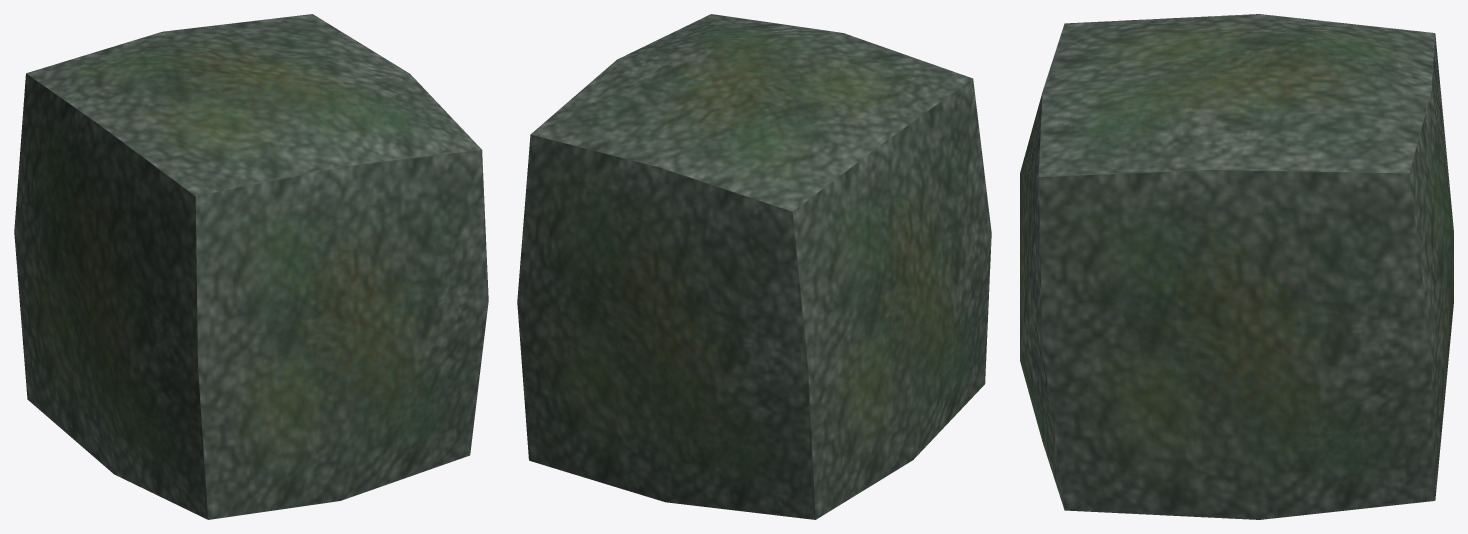
The model's file is ruins07.obj.
3 renders of one model, left to right at view 1: azimuth 30°, elevation 25°; view 2: azimuth 150°, elevation 25°; view 3: azimuth 270°, elevation 25°, orthographic. The views are drawn at different scales.
Parts seen in each view (by area): view 1: Duplicate18; view 2: Duplicate18; view 3: Duplicate18.
Boxes of the visible parts, x1,y1,x2,y2 form: Duplicate18: (14, 14, 488, 519); Duplicate18: (517, 14, 991, 519); Duplicate18: (1020, 14, 1453, 519).
Bounding box in the file's own units: 17.18 × 18.8 × 18.68.
